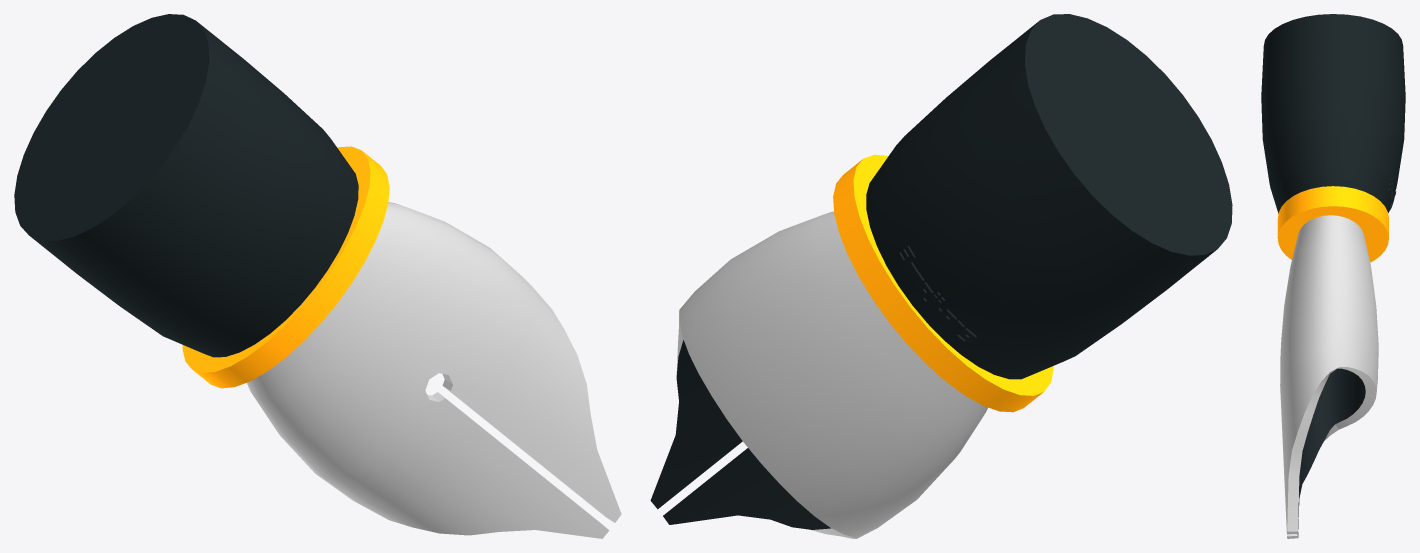
The model's file is black_nib.gltf.
3 renders of one model, left to right at view 1: azimuth 30°, elevation 25°; view 2: azimuth 150°, elevation 25°; view 3: azimuth 270°, elevation 25°, orthographic. The views are drawn at different scales.
Parts seen in each view (by area): view 1: Cylinder.504; view 2: Cylinder.504; view 3: Cylinder.504.
Boxes of the visible parts, x1,y1,x2,y2 form: Cylinder.504: [14, 14, 621, 538]; Cylinder.504: [650, 14, 1232, 538]; Cylinder.504: [1261, 14, 1405, 538].
Bounding box in the file's own units: 2.08 × 2.08 × 0.6811.
Materials: 1 (1 with a texture image).
